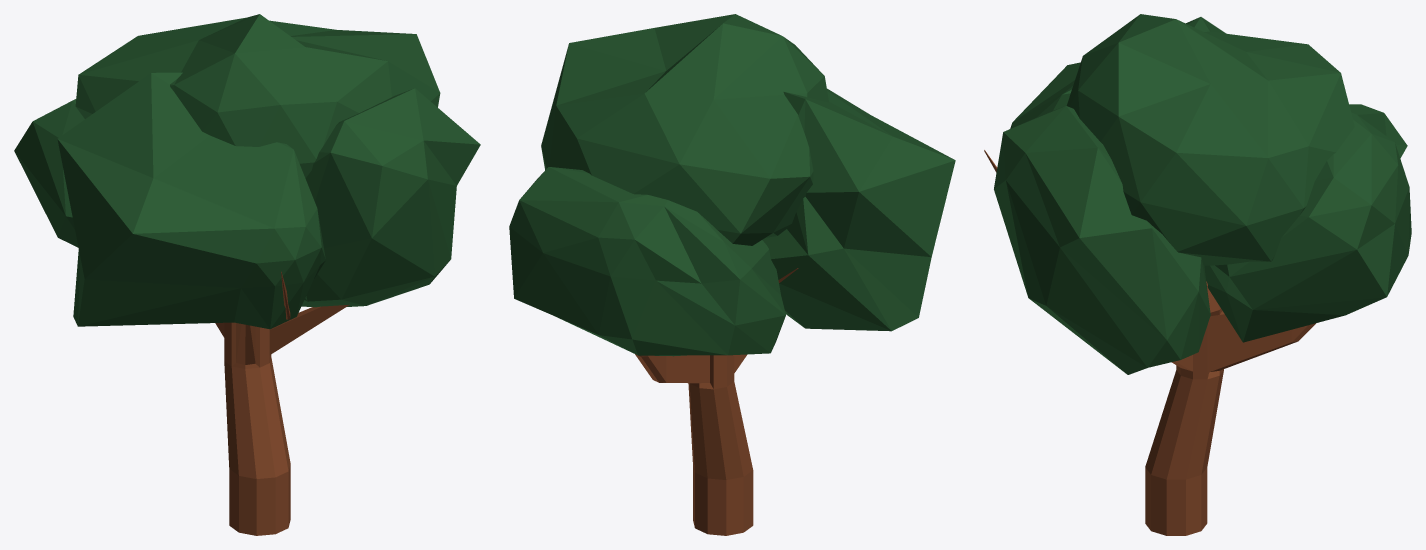
Rendered from darkgreen.fbx.
3 views of the same model, side by side, from view 1: azimuth 30°, elevation 25°; view 2: azimuth 150°, elevation 25°; view 3: azimuth 270°, elevation 25° (orthographic).
Parts seen in each view (by area): view 1: Cylinder.009; view 2: Cylinder.009; view 3: Cylinder.009.
Part boxes in pixels (left/top/right/bottom): Cylinder.009: left=14, top=14, right=480, bottom=535; Cylinder.009: left=509, top=14, right=955, bottom=535; Cylinder.009: left=984, top=14, right=1411, bottom=535.
Bounding box in the file's own units: 1356 × 1790 × 1375.
1 material, 1 textured.
